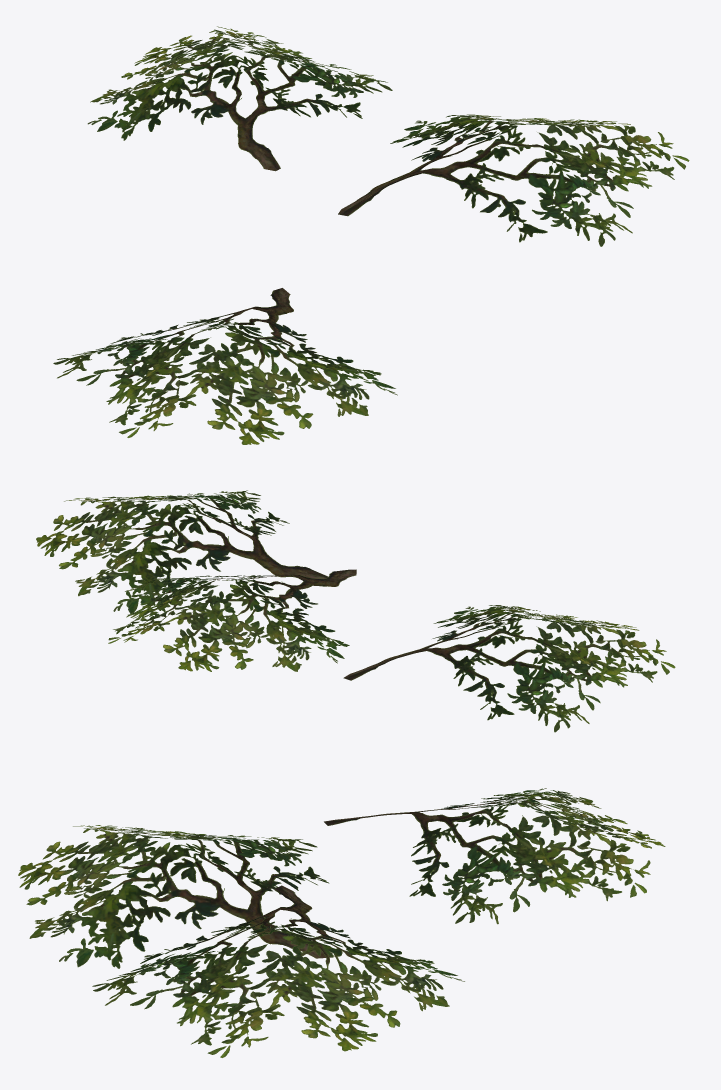
File: fxmg_shuye5.FBX
3 views of the same model, one above another, from view 1: azimuth 30°, elevation 25°; view 2: azimuth 150°, elevation 25°; view 3: azimuth 270°, elevation 25° (orthographic). The views are drawn at different scales.
Visible parts, largest first — view 1: KLMSM_shuye5; view 2: KLMSM_shuye5; view 3: KLMSM_shuye5.
Boxes of the visible parts, x1,y1,x2,y2 form: KLMSM_shuye5: [53, 26, 689, 444]; KLMSM_shuye5: [36, 490, 675, 732]; KLMSM_shuye5: [18, 788, 665, 1057].
Bounding box in the file's own units: 1178 × 308 × 1001.
